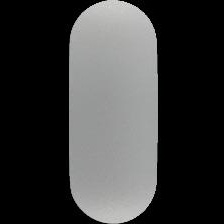61786-811: (0, 0, 224, 224)
